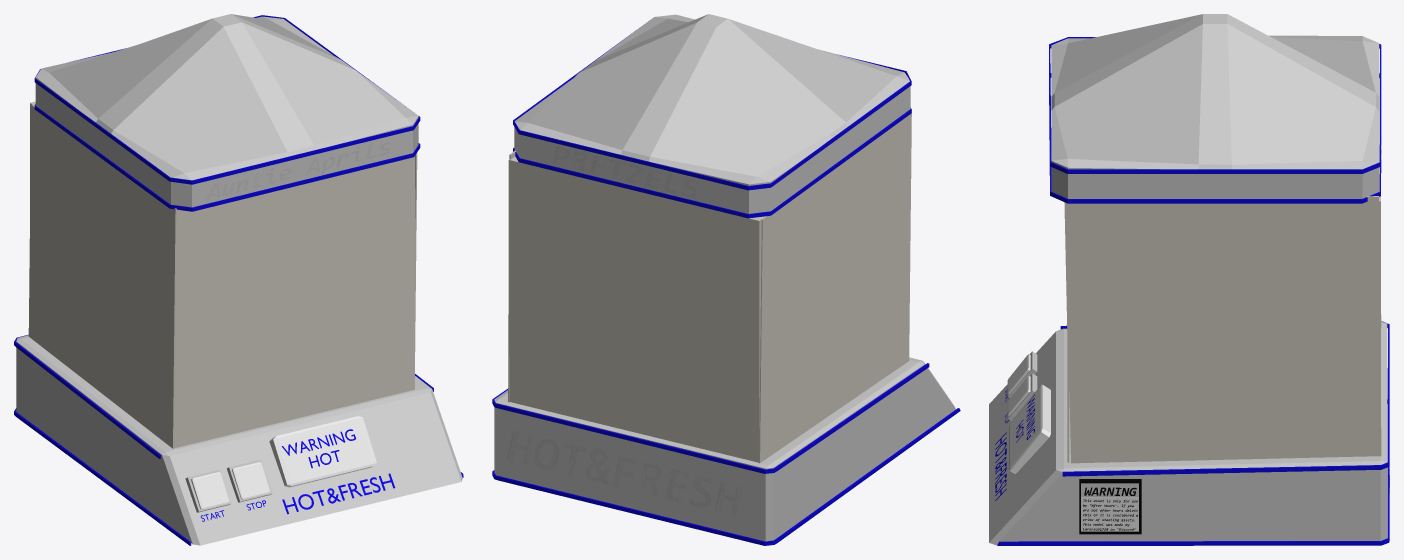
Rendered from AUNTIEAPRILSPRETZELS (1).fbx.
The picture shows the model from 3 angles, left to right: view 1: azimuth 30°, elevation 25°; view 2: azimuth 150°, elevation 25°; view 3: azimuth 270°, elevation 25°; orthographic projection. The views are drawn at different scales.
Parts seen in each view (by area): view 1: Cube.024, Cube.016, Cube.026, Cube, Cube.017, Cube.031, Cube.030, Text.007, Cube.001, Cube.002, Cube.029, Cube.028 (+1 smaller); view 2: Cube.023, Cube.016, Cube.026, Cube, Text.005, Cube.029, Cube.028, Cube.031, Cube.030, Text.006; view 3: Cube.025, Cube.016, Cube, Cube.017, Cube.031, Cube.028, Cube.029, Cube.018, Cube.030, Cube.020, Cube.019, Text.009.
Part boxes in pixels (x1=…): Cube.024: x1=174, y1=156, x2=414, y2=448; Cube.016: x1=35, y1=14, x2=418, y2=207; Cube.026: x1=28, y1=105, x2=176, y2=448; Cube: x1=16, y1=335, x2=462, y2=545; Cube.017: x1=269, y1=416, x2=376, y2=487; Cube.031: x1=34, y1=15, x2=420, y2=184; Cube.030: x1=34, y1=104, x2=420, y2=211; Text.007: x1=206, y1=142, x2=390, y2=200; Cube.001: x1=191, y1=472, x2=229, y2=509; Cube.002: x1=232, y1=462, x2=270, y2=499; Cube.029: x1=14, y1=408, x2=463, y2=545; Cube.028: x1=14, y1=334, x2=433, y2=458; Cube.023: x1=508, y1=156, x2=765, y2=462; Cube.016: x1=514, y1=14, x2=910, y2=213; Cube.026: x1=758, y1=109, x2=911, y2=463; Cube: x1=494, y1=357, x2=955, y2=541; Text.005: x1=507, y1=430, x2=742, y2=515; Cube.029: x1=492, y1=408, x2=960, y2=545; Cube.028: x1=492, y1=363, x2=929, y2=473; Cube.031: x1=513, y1=30, x2=911, y2=190; Cube.030: x1=513, y1=108, x2=911, y2=218; Text.006: x1=552, y1=146, x2=698, y2=197; Cube.025: x1=1065, y1=196, x2=1381, y2=463; Cube.016: x1=1051, y1=14, x2=1379, y2=198; Cube: x1=989, y1=321, x2=1387, y2=545; Cube.017: x1=1009, y1=384, x2=1050, y2=473; Cube.031: x1=1049, y1=37, x2=1381, y2=173; Cube.028: x1=1060, y1=321, x2=1389, y2=476; Cube.029: x1=997, y1=399, x2=1389, y2=545; Cube.018: x1=1081, y1=497, x2=1138, y2=531; Cube.030: x1=1049, y1=73, x2=1381, y2=203; Cube.020: x1=1079, y1=479, x2=1141, y2=534; Cube.019: x1=1081, y1=483, x2=1138, y2=497; Text.009: x1=1083, y1=499, x2=1137, y2=530.
Size of the model in its own units: 763 by 1093 by 871.
